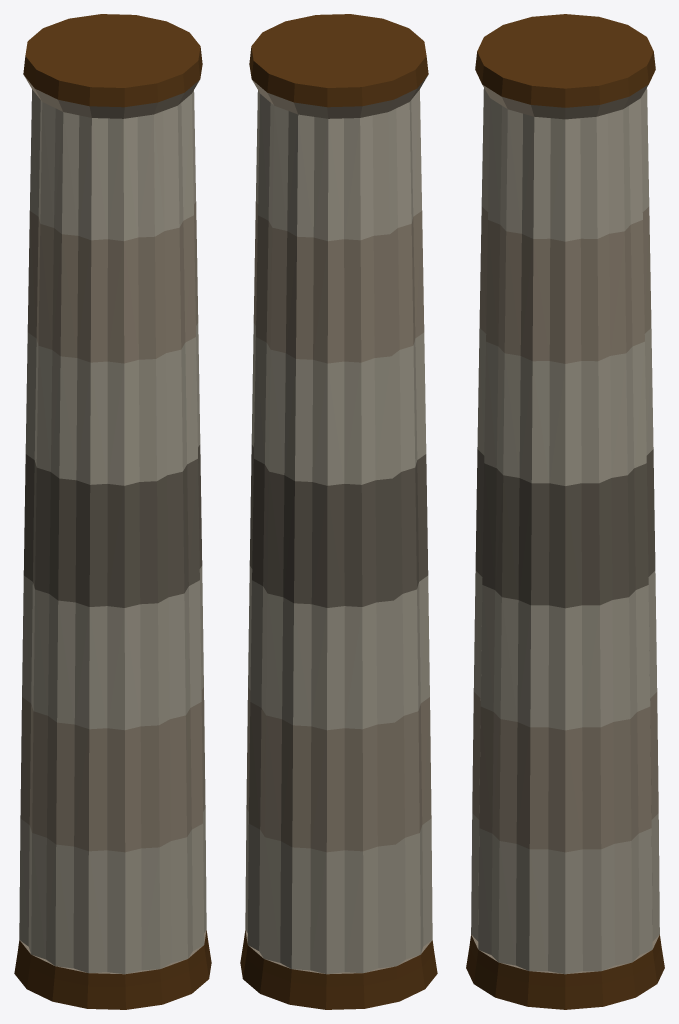
The model's file is mod_classical_column_shaft_3m.glb.
3 views of the same model, side by side, from view 1: azimuth 30°, elevation 25°; view 2: azimuth 150°, elevation 25°; view 3: azimuth 270°, elevation 25° (orthographic).
Parts seen in each view (by area): view 1: Mod_Classical_Column_Shaft_3m; view 2: Mod_Classical_Column_Shaft_3m; view 3: Mod_Classical_Column_Shaft_3m.
Part boxes in pixels (<box>): Mod_Classical_Column_Shaft_3m: <box>14,14,211,1009</box>; Mod_Classical_Column_Shaft_3m: <box>240,14,437,1009</box>; Mod_Classical_Column_Shaft_3m: <box>466,14,664,1009</box>.
Bounding box in the file's own units: 0.59 × 3 × 0.59.
